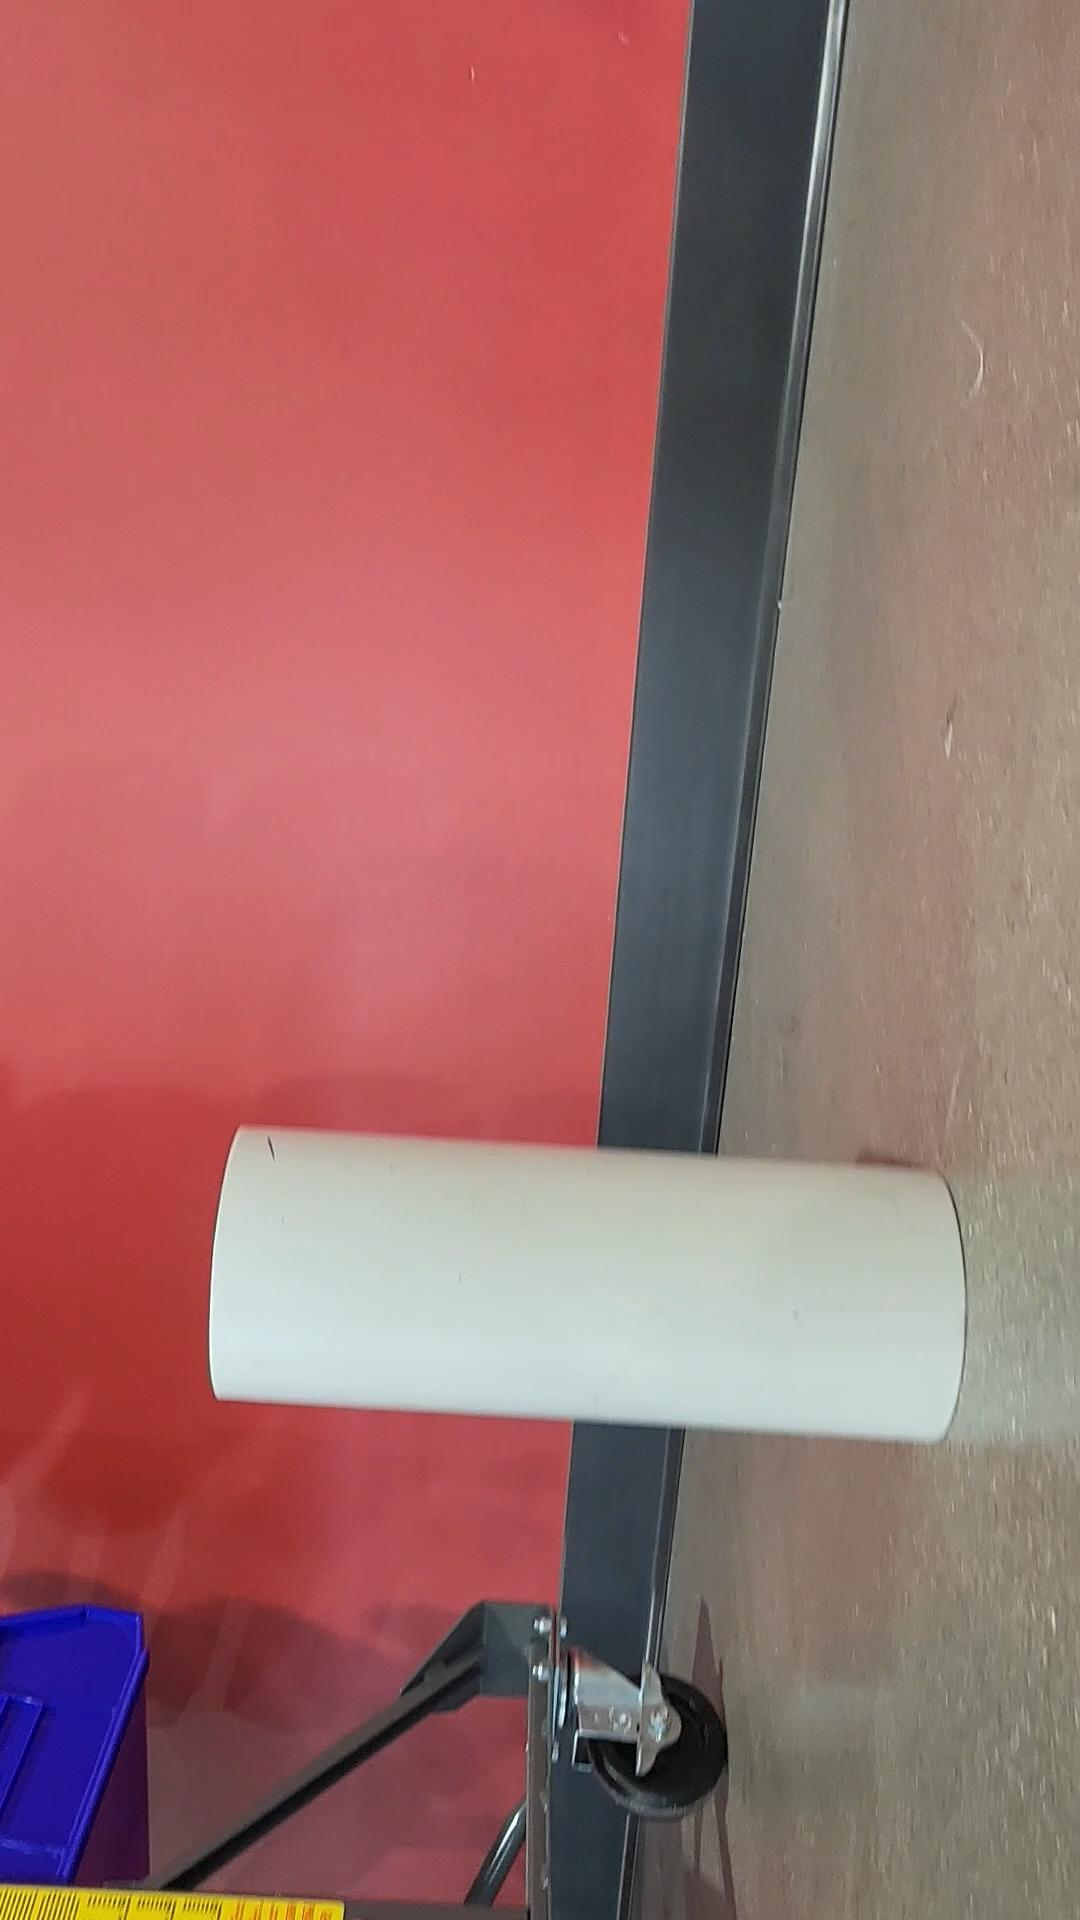coral: (203, 1110, 973, 1451)
